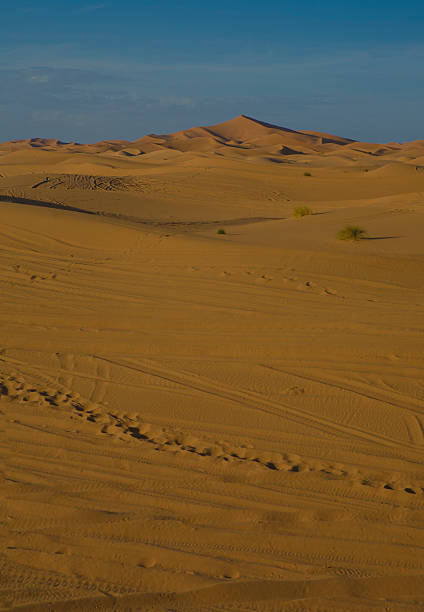animal_footprint: (0, 374, 423, 495)
